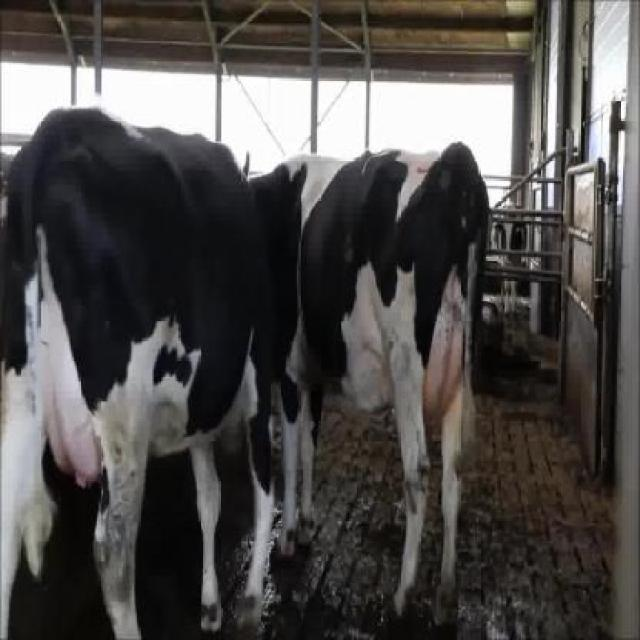Cow: (1, 103, 277, 639), (243, 142, 489, 636)
